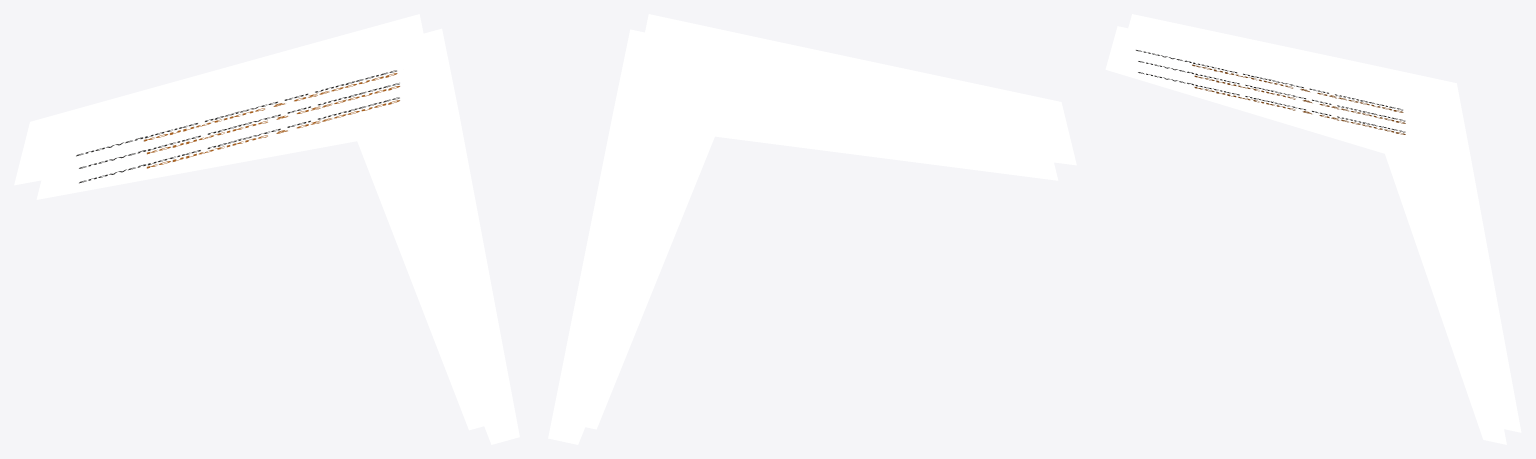
Rendered from door_text2.glb.
The picture shows the model from 3 angles, left to right: view 1: azimuth 30°, elevation 25°; view 2: azimuth 150°, elevation 25°; view 3: azimuth 330°, elevation 25°; orthographic projection. The views are drawn at different scales.
Visible parts, largest first — view 1: Entr_Portal_C, Doors_Text; view 2: Entr_Portal_C; view 3: Entr_Portal_C, Doors_Text.
Boxes of the visible parts, x1=… form: Entr_Portal_C: x1=14, y1=14, x2=519, y2=444; Doors_Text: x1=76, y1=70, x2=400, y2=183; Entr_Portal_C: x1=548, y1=14, x2=1076, y2=444; Entr_Portal_C: x1=1105, y1=14, x2=1521, y2=444; Doors_Text: x1=1136, y1=50, x2=1405, y2=134.
Size of the model in its own units: 6.83 by 5.6 by 0.859.
Materials: 2 (1 with a texture image).
